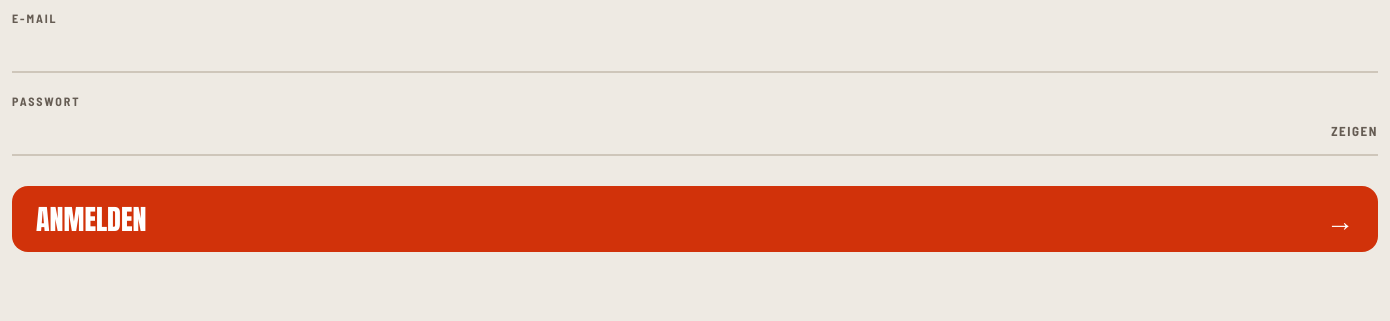
Test: LoginForm › shows validation errors and does not submit invalid data
Click the button "Anmelden →": (91, 219) [12,186,1378,252]
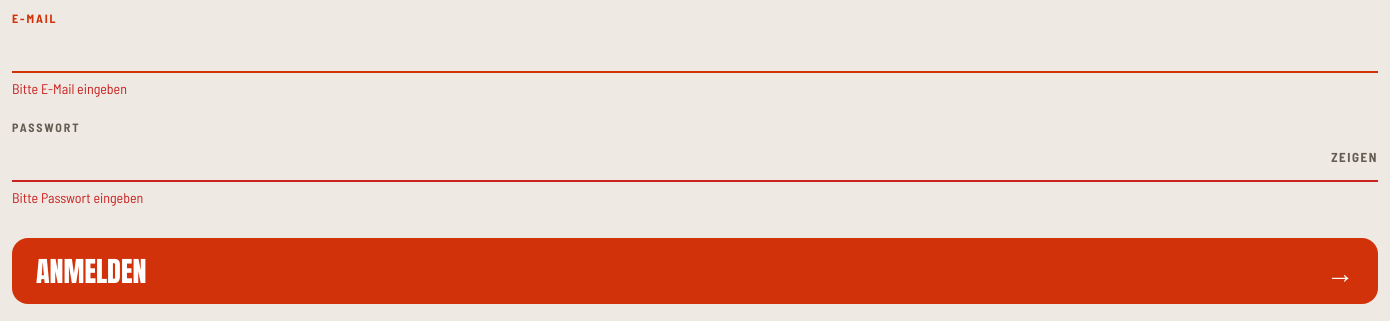
Check: the text "Bitte E-Mail eingeben" is shown, box [12,80,127,97]
Check: the text "Bitte Passwort eingeben" is shown, box [12,189,143,206]
